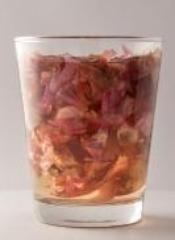glass: (15, 34, 165, 228)
